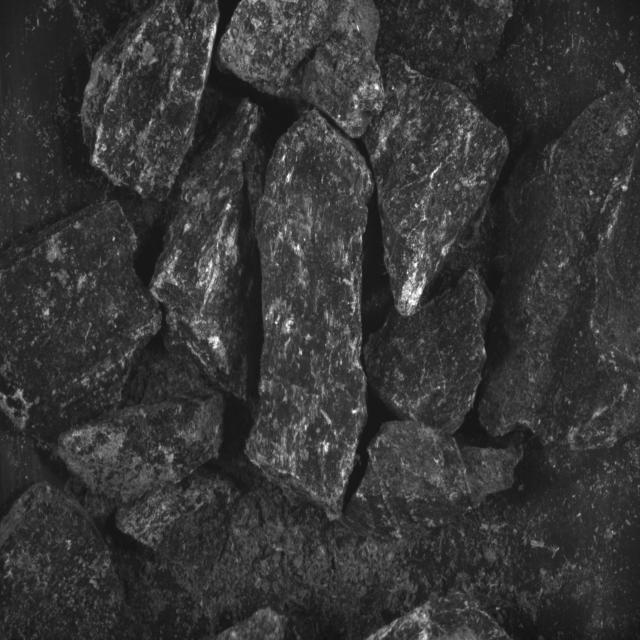Stones: (480, 88, 640, 450), (247, 112, 374, 517), (1, 202, 162, 441), (366, 56, 510, 316), (151, 101, 266, 400), (369, 79, 509, 316), (82, 1, 220, 200), (219, 1, 385, 139), (1, 484, 135, 640), (346, 422, 522, 539), (365, 270, 487, 434), (59, 393, 225, 504), (117, 469, 241, 594), (370, 593, 510, 640), (217, 609, 289, 640)
